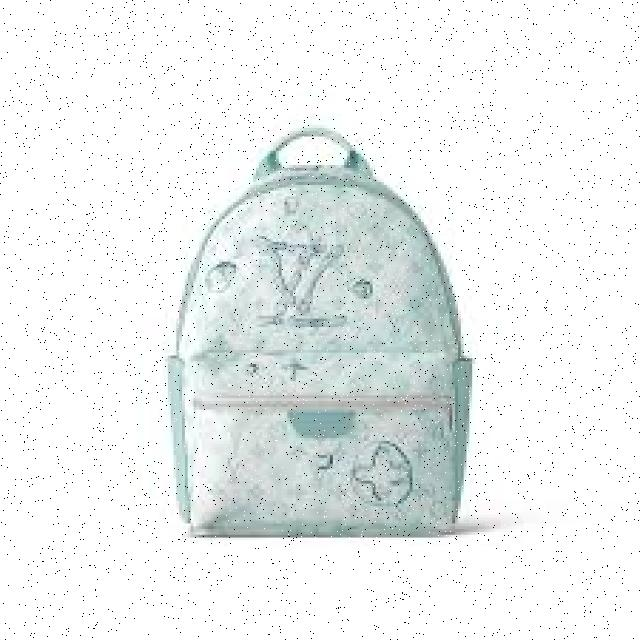backpack: (165, 122, 472, 538)
